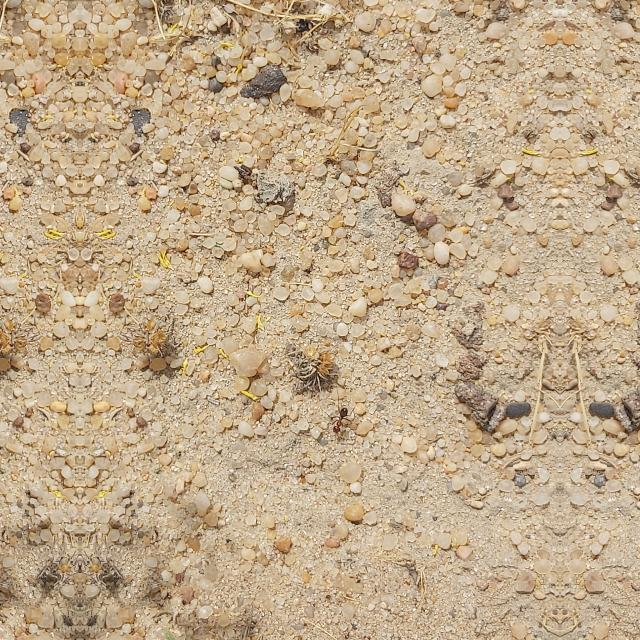Cataglyphis: (328, 401, 352, 441)
